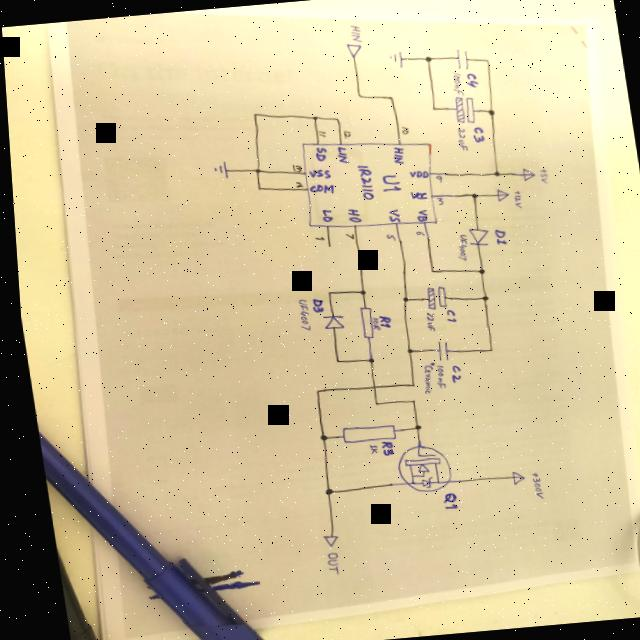capacitor: (450, 94, 476, 124), (420, 285, 444, 309), (428, 338, 446, 362), (451, 48, 470, 70)
crossover: (364, 384, 372, 391)
diode: (461, 226, 488, 248), (315, 312, 341, 330)
ground: (208, 160, 227, 179), (386, 50, 402, 68)
junction: (311, 432, 322, 442), (316, 487, 327, 496), (421, 54, 432, 63), (483, 107, 494, 116), (405, 423, 416, 431), (466, 191, 475, 199), (489, 170, 498, 178), (472, 268, 481, 276), (361, 356, 369, 364), (476, 294, 484, 302), (353, 288, 361, 296), (250, 166, 258, 174), (400, 347, 409, 354), (427, 105, 436, 112), (366, 400, 374, 407), (481, 57, 489, 64), (309, 114, 317, 121), (327, 358, 336, 364), (385, 94, 392, 101), (396, 296, 404, 302), (403, 398, 411, 404), (331, 116, 339, 122), (403, 382, 411, 388), (253, 186, 260, 192), (425, 268, 432, 274), (308, 388, 315, 394), (354, 93, 361, 99), (321, 290, 327, 296), (250, 111, 256, 117), (482, 347, 488, 352)
resistor: (333, 421, 391, 444), (353, 306, 370, 339)
source: (502, 468, 520, 486), (518, 166, 533, 182), (491, 187, 506, 202)
terminal: (313, 532, 333, 548), (344, 42, 362, 58)
text: (352, 164, 373, 200), (290, 298, 308, 332), (412, 362, 431, 394), (521, 470, 539, 501), (449, 232, 467, 260), (376, 173, 400, 193), (315, 551, 335, 574), (452, 126, 468, 153), (427, 363, 442, 390), (305, 182, 333, 196), (449, 70, 463, 97), (433, 492, 452, 511), (331, 145, 348, 165), (442, 364, 458, 383), (346, 24, 362, 43), (304, 168, 329, 180), (507, 189, 521, 210), (387, 146, 403, 164), (404, 168, 427, 180), (419, 311, 432, 332), (342, 207, 358, 224), (462, 72, 478, 88), (489, 228, 504, 245), (382, 208, 398, 223), (373, 440, 388, 456), (469, 126, 483, 143), (372, 314, 388, 328), (311, 146, 325, 161), (306, 298, 320, 313), (534, 167, 546, 184), (406, 190, 426, 200), (316, 208, 330, 222), (439, 308, 453, 322), (412, 209, 426, 222), (366, 316, 375, 331), (361, 443, 372, 454), (339, 128, 351, 138), (381, 232, 392, 242), (314, 129, 326, 138), (340, 231, 351, 240), (288, 164, 300, 172), (396, 126, 408, 134), (289, 181, 301, 189), (431, 197, 441, 206), (409, 229, 420, 237), (431, 174, 440, 183), (311, 235, 321, 242)
transistor: (386, 442, 446, 495)
